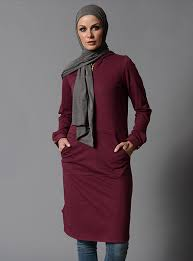middle_eastern_Female: (75, 14, 105, 50)
